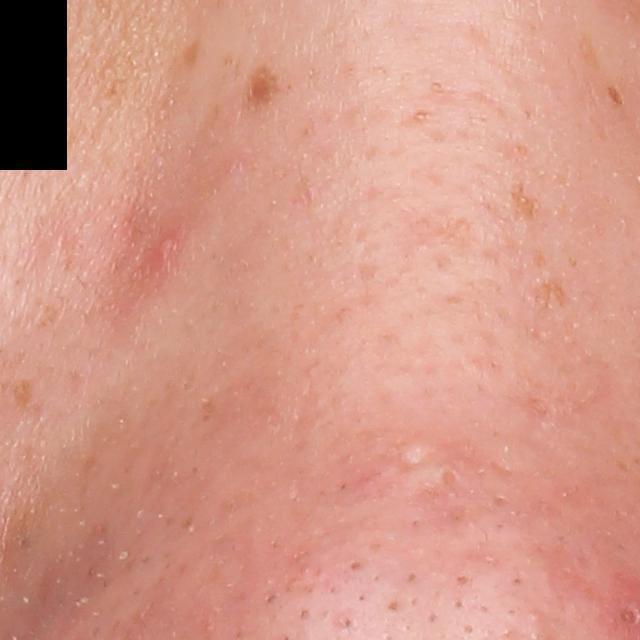comedo: (620, 606, 640, 629), (345, 555, 365, 574), (439, 469, 459, 487)
melasma: (507, 177, 547, 223), (8, 370, 37, 412), (607, 85, 624, 106)
nevus: (243, 69, 283, 109)
